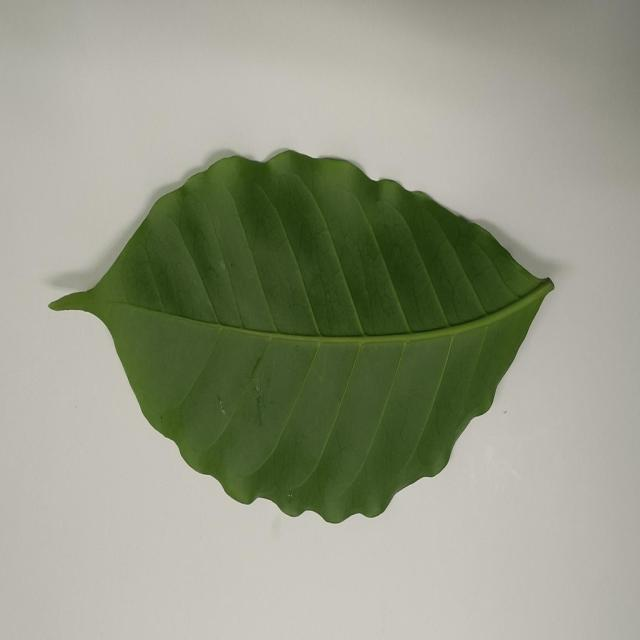Sanas: (47, 150, 554, 526)
